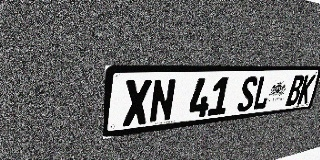1: (207, 77, 232, 116)
4: (188, 78, 213, 119)
B: (285, 75, 305, 106)
K: (297, 75, 316, 105)
L: (252, 76, 273, 110)
N: (149, 79, 176, 124)
S: (236, 76, 259, 112)
X: (122, 79, 152, 127)
